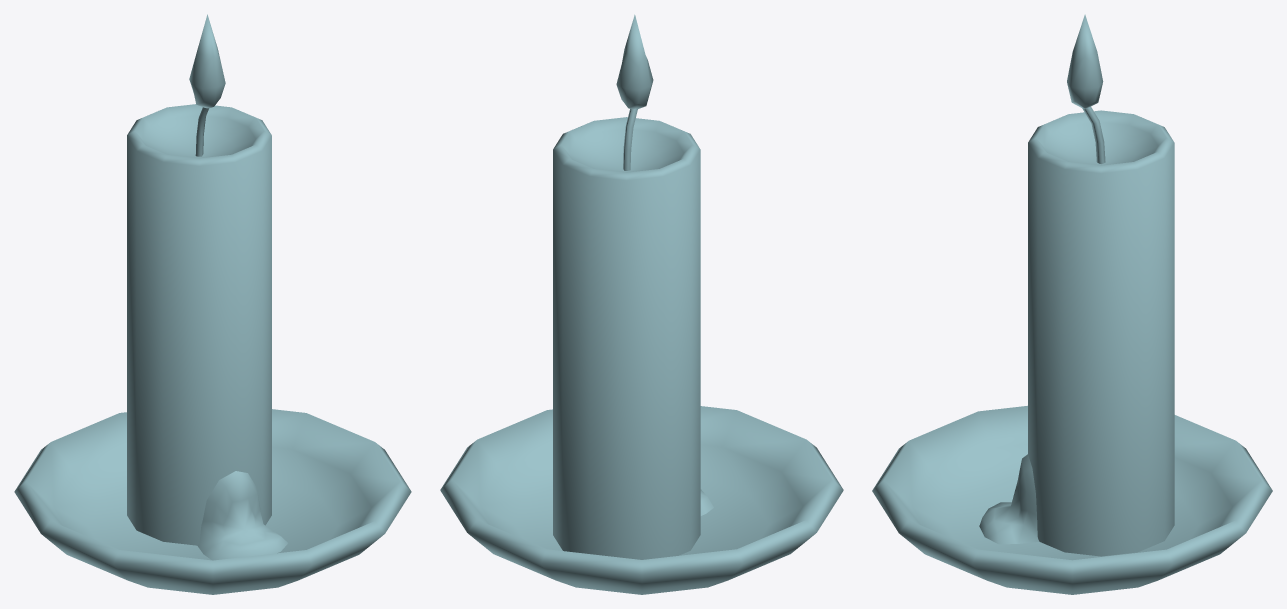
File: HalloweenRoomA_CandleB.fbx
The picture shows the model from 3 angles, left to right: view 1: azimuth 30°, elevation 25°; view 2: azimuth 150°, elevation 25°; view 3: azimuth 270°, elevation 25°; orthographic projection.
Visible parts, largest first — view 1: HalloweenRoomA_CandleB; view 2: HalloweenRoomA_CandleB; view 3: HalloweenRoomA_CandleB.
Boxes of the visible parts, x1,y1,x2,y2 form: HalloweenRoomA_CandleB: [14, 14, 411, 594]; HalloweenRoomA_CandleB: [440, 14, 843, 594]; HalloweenRoomA_CandleB: [872, 14, 1272, 594].
Bounding box in the file's own units: 11.45 × 16.56 × 11.45.
